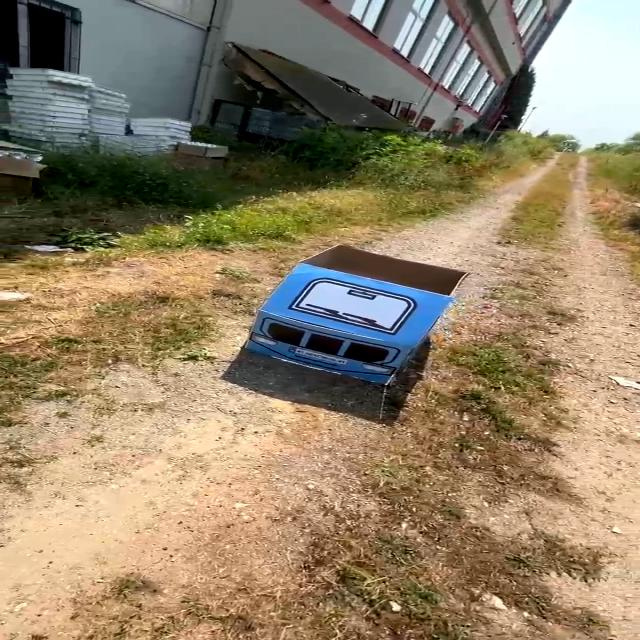blue_car: (219, 235, 485, 413)
